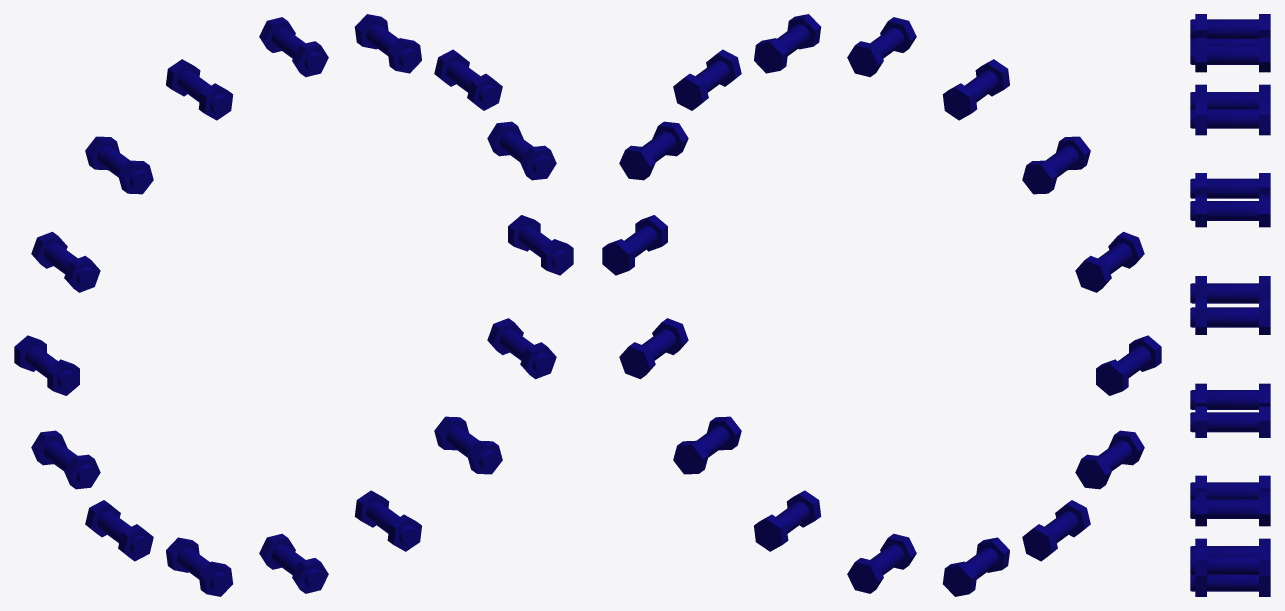
The model's file is sBoltx17_03.FBX.
3 renders of one model, left to right at view 1: azimuth 30°, elevation 25°; view 2: azimuth 150°, elevation 25°; view 3: azimuth 270°, elevation 25°, orthographic. The views are drawn at different scales.
Parts seen in each view (by area): view 1: Bolt_03; view 2: Bolt_03; view 3: Bolt_03.
Boxes of the visible parts, <box> form: Bolt_03: <box>14,14,573,596</box>; Bolt_03: <box>602,14,1161,596</box>; Bolt_03: <box>1190,14,1270,596</box>.
Bounding box in the file's own units: 18.45 × 18.45 × 2.54.
